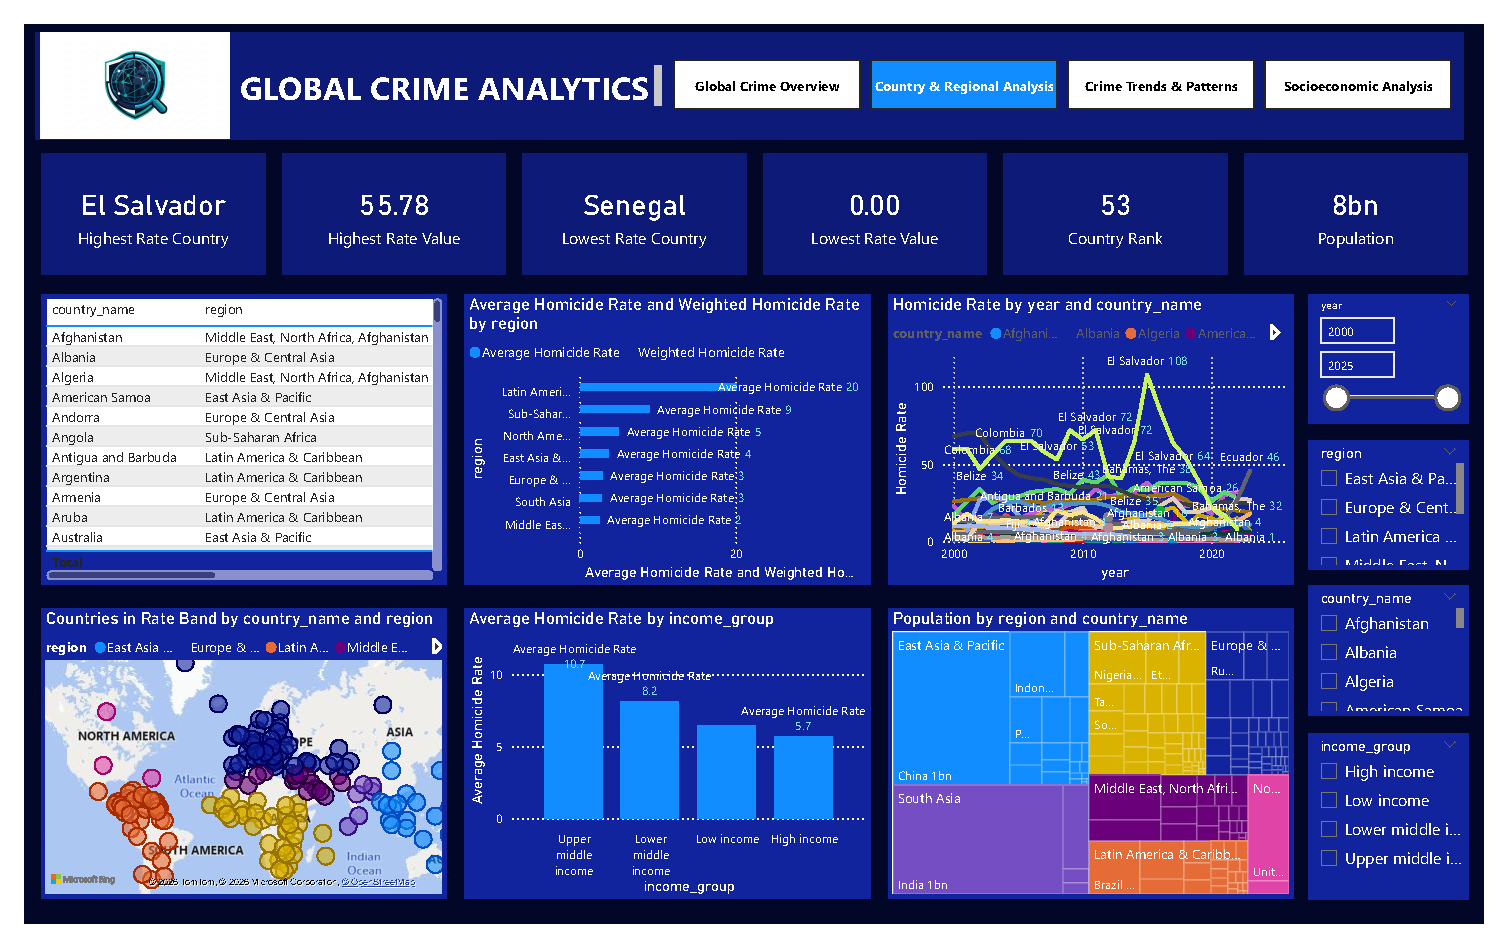

The page's visual inventory and layout, read from the dashboard file:
{"tool":"powerbi","page":{"name":"Country & Regional Analysis","canvas":[1460,900],"ordinal":1},"visuals":[{"type":"shape","box":[11.4,7.6,1429.1,108.5],"z":0},{"type":"card","fields":{"Values":["Global_Crime_Analytics_Master.Highest Rate Country"]},"box":[17.3,129.4,224.5,121.8],"z":0,"group":"g1"},{"type":"tableEx","fields":{"Values":["Global_Crime_Analytics_Master.country_name","Global_Crime_Analytics_Master.region","Global_Crime_Analytics_Master.Homicide Rate","Global_Crime_Analytics_Master.Country Rank","Global_Crime_Analytics_Master.YoY Change (per 100K)","Global_Crime_Analytics_Master.Population"]},"box":[17.2,270.2,406.2,291.2],"z":0,"group":"g2"},{"type":"map","fields":{"Size":["Dim_Rate_Band.Countries in Rate Band"],"Category":["Global_Crime_Analytics_Master.country_name"],"Series":["Global_Crime_Analytics_Master.region"]},"box":[17.2,584.4,406.2,291.2],"z":0,"group":"g3"},{"type":"image","box":[17.1,3.8,188.4,116.1],"z":1000},{"type":"card","fields":{"Values":["Dim_Rate_Band.Highest Rate Value"]},"box":[257.8,129.4,224.5,121.8],"z":1000,"group":"g1"},{"type":"clusteredBarChart","fields":{"Category":["Global_Crime_Analytics_Master.region"],"Y":["Global_Crime_Analytics_Master.Average Homicide Rate","Global_Crime_Analytics_Master.Weighted Homicide Rate"]},"box":[440.6,270.2,406.2,291.2],"z":1000,"group":"g2"},{"type":"clusteredColumnChart","fields":{"Category":["Global_Crime_Analytics_Master.income_group"],"Y":["Global_Crime_Analytics_Master.Average Homicide Rate"]},"box":[440.6,584.4,406.2,291.2],"z":1000,"group":"g3"},{"type":"textbox","box":[205.5,36.2,437.7,51.4],"z":2000},{"type":"card","fields":{"Values":["Global_Crime_Analytics_Master.Lowest Rate Country"]},"box":[498.3,129.4,224.5,121.8],"z":2000,"group":"g1"},{"type":"lineChart","fields":{"Category":["Global_Crime_Analytics_Master.year"],"Y":["Global_Crime_Analytics_Master.Homicide Rate"],"Series":["Global_Crime_Analytics_Master.country_name"]},"box":[864.1,270.2,406.2,291.2],"z":2000,"group":"g2"},{"type":"treemap","fields":{"Group":["Global_Crime_Analytics_Master.region"],"Details":["Global_Crime_Analytics_Master.country_name"],"Values":["Global_Crime_Analytics_Master.Population"]},"box":[864.1,584.4,406.2,291.2],"z":2000,"group":"g3"},{"type":"group","id":"g1","title":"Group 1","box":[17.3,129.4,1427.2,121.8],"z":3000},{"type":"card","fields":{"Values":["Global_Crime_Analytics_Master.Lowest Rate Value"]},"box":[738.9,129.4,224.5,121.8],"z":3000,"group":"g1"},{"type":"card","fields":{"Values":["Global_Crime_Analytics_Master.Country Rank"]},"box":[979.4,129.4,224.5,121.8],"z":4000,"group":"g1"},{"type":"group","id":"g2","title":"Group 2","box":[17.2,270.2,1253.1,291.2],"z":4000},{"type":"card","fields":{"Values":["Global_Crime_Analytics_Master.Population"]},"box":[1219.9,129.4,224.5,121.8],"z":5000,"group":"g1"},{"type":"group","id":"g3","title":"Group 2","box":[17.2,584.4,1253.1,291.2],"z":5000},{"type":"slicer","fields":{"Values":["Global_Crime_Analytics_Master.year"]},"box":[1283.7,270.2,160.9,130.3],"z":6000},{"type":"slicer","fields":{"Values":["Global_Crime_Analytics_Master.region"]},"box":[1283.7,415.8,160.9,130.3],"z":7000},{"type":"slicer","fields":{"Values":["Global_Crime_Analytics_Master.country_name"]},"box":[1283.7,561.4,160.9,130.3],"z":8000},{"type":"slicer","fields":{"Values":["Global_Crime_Analytics_Master.income_group"]},"box":[1283.7,708.9,160.9,166.7],"z":9000},{"type":"pageNavigator","box":[649.5,36.4,781.7,49.8],"z":10000}]}

Visuals, with their boxes in screenshot pixels (x1, y1, x2, y2), scaled from the page's 1460x900 canvas onto the 1508x948 screenshot:
shape: region(12, 8, 1488, 122)
card - Global_Crime_Analytics_Master.Highest Rate Country: region(18, 136, 250, 265)
tableEx - Global_Crime_Analytics_Master.country_name x Global_Crime_Analytics_Master.region: region(18, 285, 437, 591)
map - Dim_Rate_Band.Countries in Rate Band x Global_Crime_Analytics_Master.country_name: region(18, 616, 437, 922)
image: region(18, 4, 212, 126)
card - Dim_Rate_Band.Highest Rate Value: region(266, 136, 498, 265)
clusteredBarChart - Global_Crime_Analytics_Master.region x Global_Crime_Analytics_Master.Average Homicide Rate: region(455, 285, 875, 591)
clusteredColumnChart - Global_Crime_Analytics_Master.income_group x Global_Crime_Analytics_Master.Average Homicide Rate: region(455, 616, 875, 922)
textbox: region(212, 38, 664, 92)
card - Global_Crime_Analytics_Master.Lowest Rate Country: region(515, 136, 747, 265)
lineChart - Global_Crime_Analytics_Master.year x Global_Crime_Analytics_Master.Homicide Rate: region(893, 285, 1312, 591)
treemap - Global_Crime_Analytics_Master.region x Global_Crime_Analytics_Master.country_name: region(893, 616, 1312, 922)
"Group 1" group: region(18, 136, 1492, 265)
card - Global_Crime_Analytics_Master.Lowest Rate Value: region(763, 136, 995, 265)
card - Global_Crime_Analytics_Master.Country Rank: region(1012, 136, 1243, 265)
"Group 2" group: region(18, 285, 1312, 591)
card - Global_Crime_Analytics_Master.Population: region(1260, 136, 1492, 265)
"Group 2" group: region(18, 616, 1312, 922)
slicer - Global_Crime_Analytics_Master.year: region(1326, 285, 1492, 422)
slicer - Global_Crime_Analytics_Master.region: region(1326, 438, 1492, 575)
slicer - Global_Crime_Analytics_Master.country_name: region(1326, 591, 1492, 729)
slicer - Global_Crime_Analytics_Master.income_group: region(1326, 747, 1492, 922)
pageNavigator: region(671, 38, 1478, 91)
